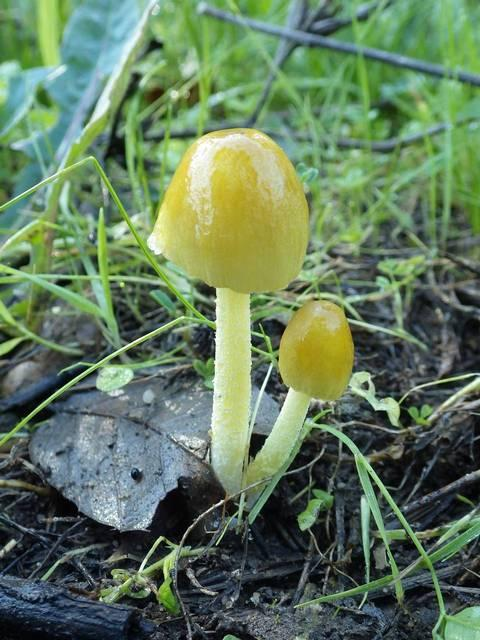Edible Mushroom: (145, 126, 310, 503), (240, 298, 355, 511)
